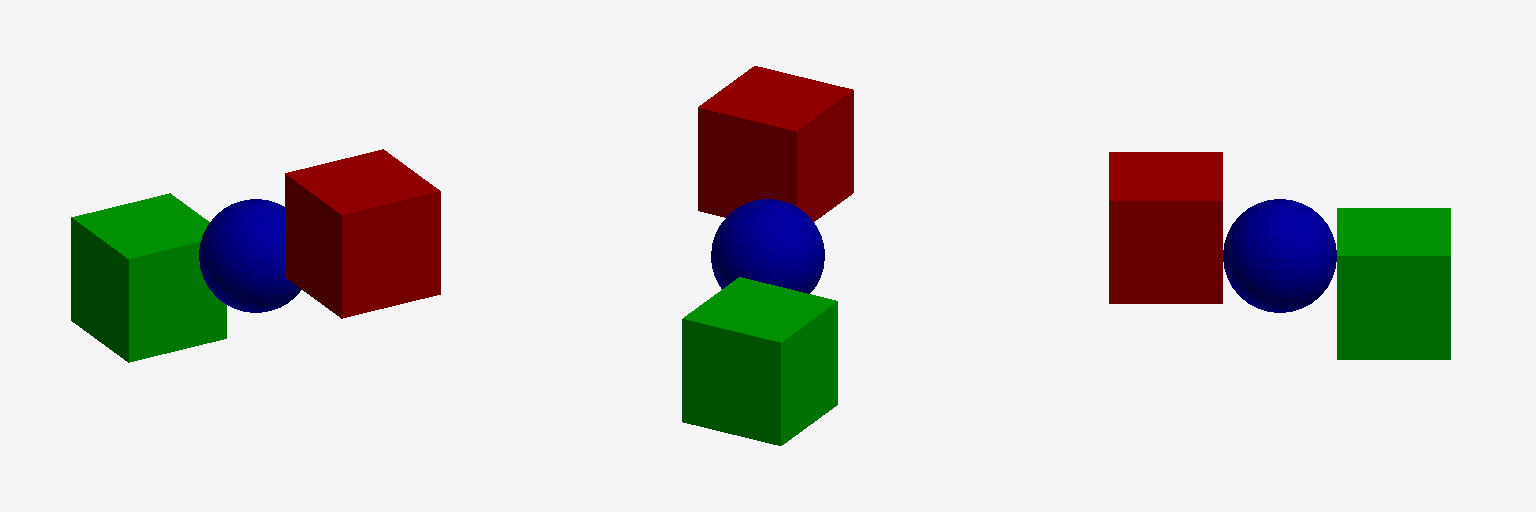
The model's file is occlusion1.obj.
3 views of the same model, side by side, from view 1: azimuth 30°, elevation 25°; view 2: azimuth 150°, elevation 25°; view 3: azimuth 270°, elevation 25° (orthographic).
Parts seen in each view (by area): view 1: Cube.001, Cube.002, Sphere; view 2: Cube.002, Cube.001, Sphere; view 3: Cube.002, Cube.001, Sphere.
Part boxes in pixels (x1,y1,x2,y2): Cube.001: (285, 149, 440, 318); Cube.002: (71, 193, 226, 362); Sphere: (199, 199, 301, 312); Cube.002: (682, 277, 837, 445); Cube.001: (698, 66, 853, 221); Sphere: (711, 199, 824, 293); Cube.002: (1337, 208, 1450, 359); Cube.001: (1109, 152, 1222, 303); Sphere: (1223, 199, 1336, 312).
Bounding box in the file's own units: 4 × 4 × 6.